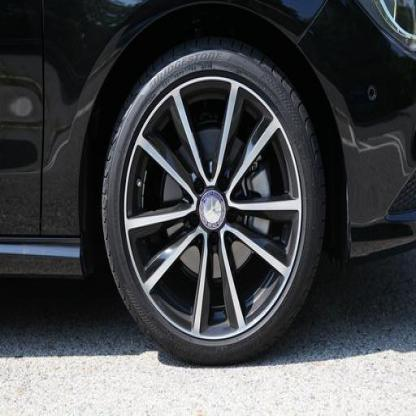Tire: (100, 35, 328, 366)
